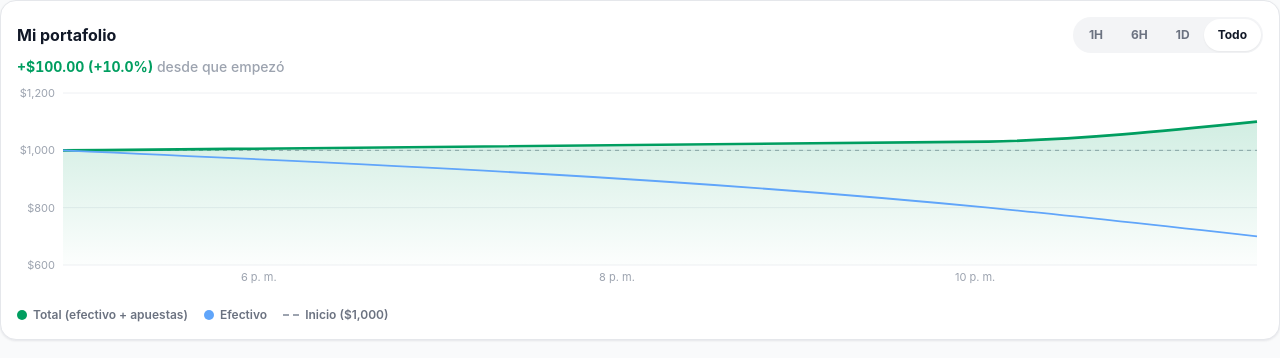
Test: PriceChart / GroupChart / NetWorthChart / PortfolioChart › portafolio: pide la serie del jugador y resume cuánto subió
Check: the element with test id "portfolio-change" reads "+$100.00 (+10.0%) desde que empezó", box [17,58,284,75]
Click the tab "6H": {"x": 1139, "y": 35} [1117,19,1162,51]
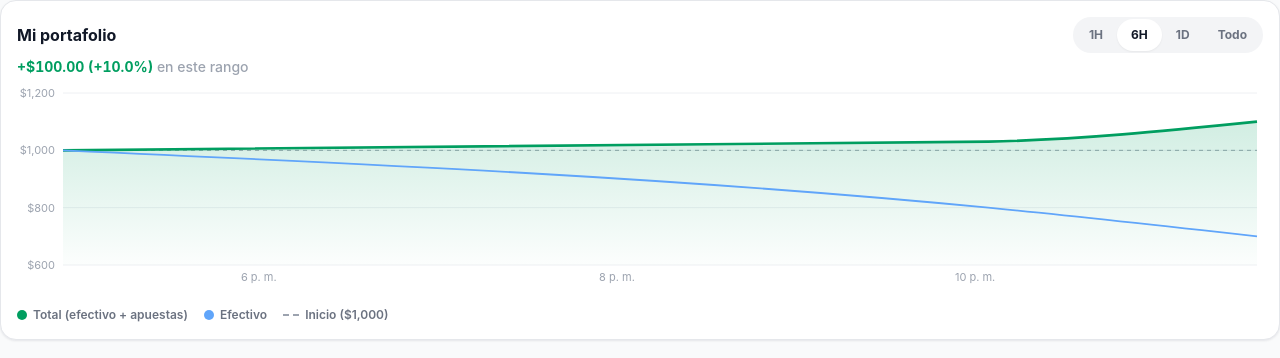
Check: the element with test id "portfolio-change" shows "en este rango", box [157,58,248,75]
